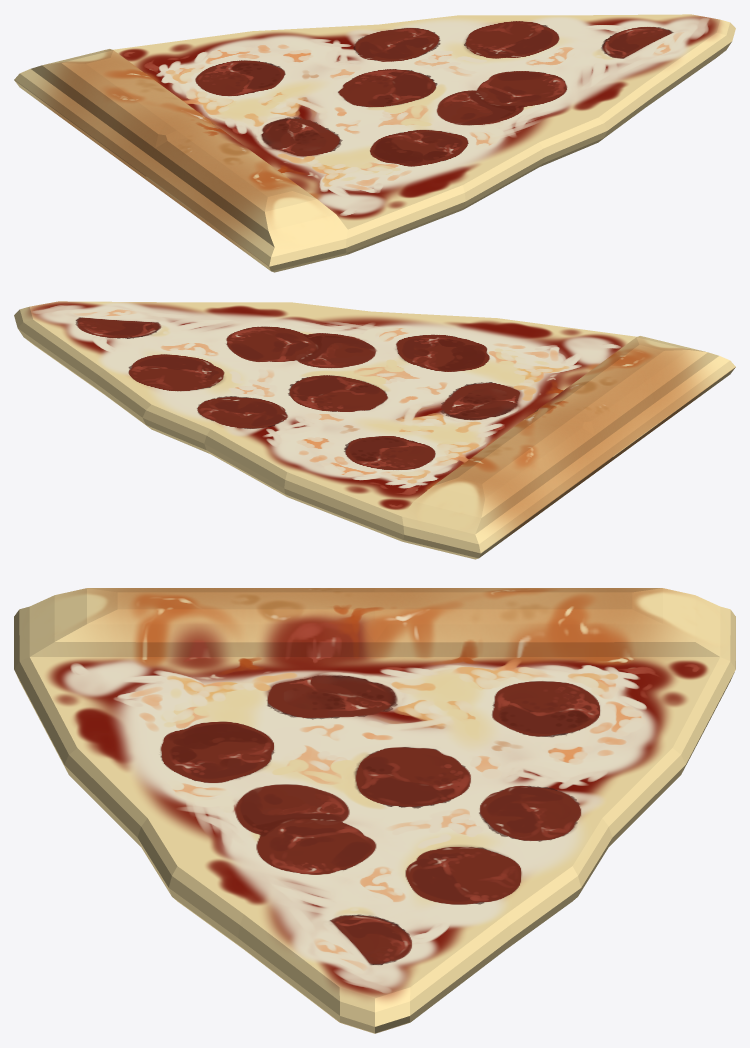
Rendered from PizzaSlice.fbx.
The picture shows the model from 3 angles, top to bottom: view 1: azimuth 30°, elevation 25°; view 2: azimuth 150°, elevation 25°; view 3: azimuth 270°, elevation 25°; orthographic projection. The views are drawn at different scales.
Parts seen in each view (by area): view 1: Plane; view 2: Plane; view 3: Plane.
Boxes of the visible parts, x1,y1,x2,y2 form: Plane: (14,14,735,272); Plane: (14,301,735,559); Plane: (14,588,735,1033).
Size of the model in its own units: 281 by 21.18 by 209.
